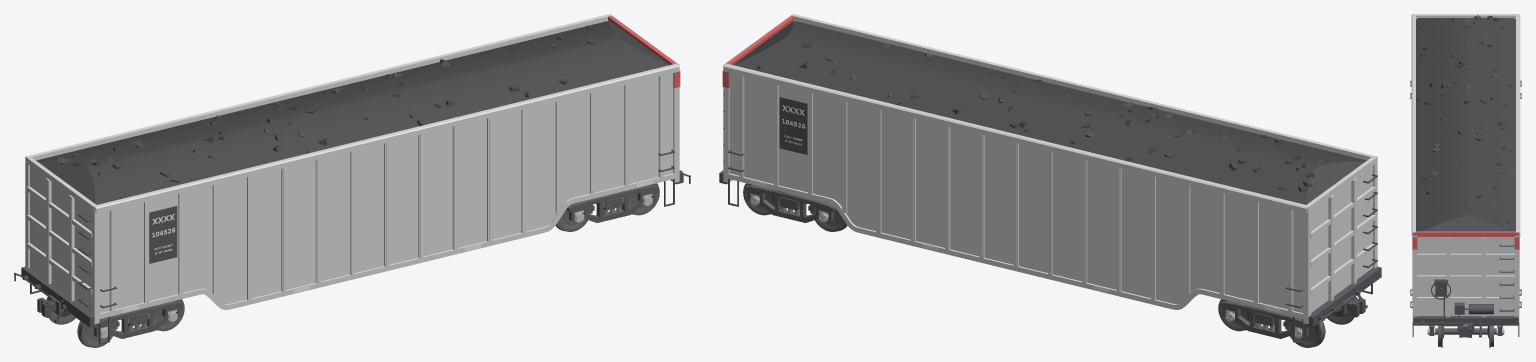
File: Rail_Gondola_Coal.glb
3 renders of one model, left to right at view 1: azimuth 30°, elevation 25°; view 2: azimuth 150°, elevation 25°; view 3: azimuth 270°, elevation 25°, orthographic. The views are drawn at different scales.
Visible parts, largest first — view 1: side_sheets, coal_load, side_posts, top_chords, end_walls_2, side_sills, coal_lumps, mark_panels, truck_B_side_frames, truck_A_side_frames, underframe, truck_A_wheels (+3 smaller); view 2: side_sheets, coal_load, side_posts, top_chords, end_walls_2, side_sills, coal_lumps, mark_panels, truck_B_side_frames, truck_A_side_frames, underframe, truck_A_wheels (+4 smaller); view 3: coal_load, end_walls, top_chords, coal_lumps, underframe, rotary_end_chord, end_chords, air_reservoir, truck_B_wheels, truck_B_axles, coupler_B, end_ladders (+9 smaller).
Boxes of the visible parts, box(x1,y1,x2,y2) form: side_sheets: box(100, 73, 673, 312); coal_load: box(36, 21, 669, 204); side_posts: box(109, 75, 663, 311); top_chords: box(25, 14, 679, 213); end_walls_2: box(25, 161, 99, 324); side_sills: box(96, 173, 677, 319); coal_lumps: box(56, 25, 609, 198); mark_panels: box(149, 206, 177, 263); truck_B_side_frames: box(566, 185, 657, 222); truck_A_side_frames: box(93, 301, 182, 338); underframe: box(21, 170, 683, 327); truck_A_wheels: box(46, 297, 184, 347); side_sheets: box(729, 73, 1302, 312); coal_load: box(733, 21, 1366, 204); side_posts: box(739, 75, 1293, 311); top_chords: box(723, 14, 1377, 213); end_walls_2: box(1303, 161, 1377, 324); side_sills: box(725, 173, 1306, 319); coal_lumps: box(756, 35, 1341, 192); mark_panels: box(779, 97, 807, 154); truck_B_side_frames: box(745, 185, 836, 222); truck_A_side_frames: box(1220, 301, 1309, 338); underframe: box(719, 170, 1381, 327); truck_A_wheels: box(1218, 297, 1356, 347); coal_load: box(1416, 18, 1515, 231); end_walls: box(1412, 235, 1519, 321); top_chords: box(1411, 14, 1520, 236); coal_lumps: box(1416, 15, 1515, 223); underframe: box(1413, 316, 1518, 325); rotary_end_chord: box(1413, 231, 1518, 236); end_chords: box(1416, 14, 1515, 18); air_reservoir: box(1468, 304, 1493, 314); truck_B_wheels: box(1438, 325, 1493, 347); truck_B_axles: box(1435, 328, 1496, 334); coupler_B: box(1457, 323, 1474, 337); end_ladders: box(1499, 244, 1514, 311).
Size of the model in its own units: 16.18 by 4.21 by 3.27.
